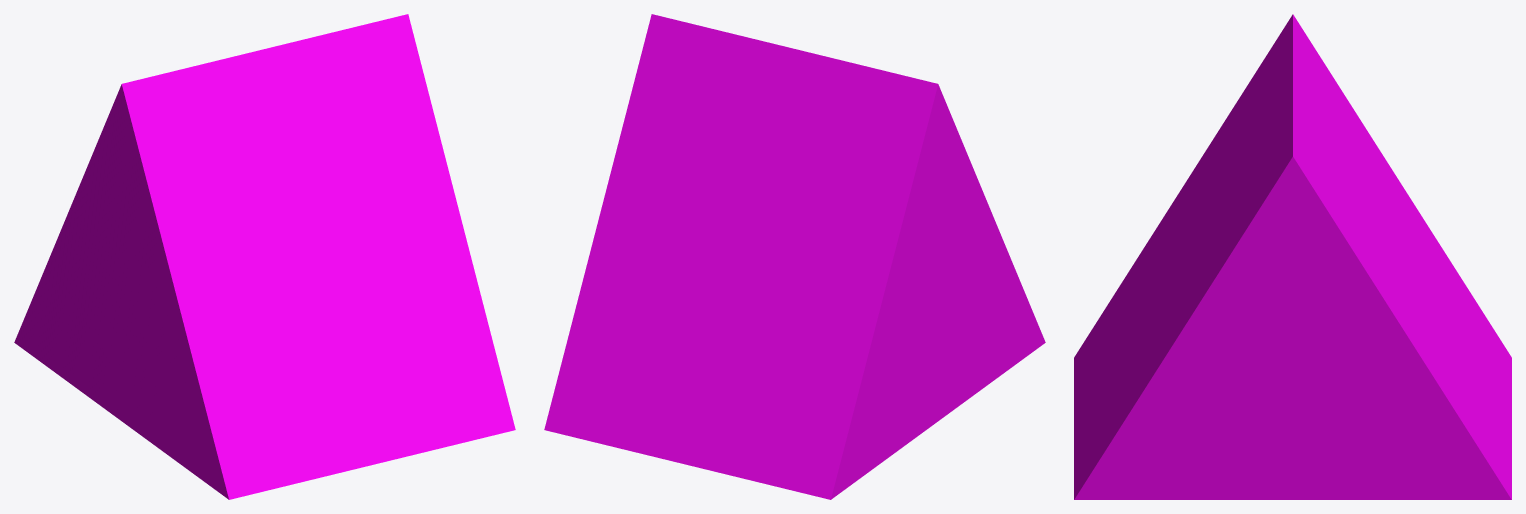
Rendered from prism.fbx.
The picture shows the model from 3 angles, left to right: view 1: azimuth 30°, elevation 25°; view 2: azimuth 150°, elevation 25°; view 3: azimuth 270°, elevation 25°; orthographic projection.
Parts seen in each view (by area): view 1: Cylinder.001; view 2: Cylinder.001; view 3: Cylinder.001.
Part boxes in pixels (bbox=[...]): Cylinder.001: bbox=[14, 14, 515, 499]; Cylinder.001: bbox=[544, 14, 1045, 499]; Cylinder.001: bbox=[1074, 14, 1511, 499].
Bounding box in the file's own units: 120 × 135 × 156.
